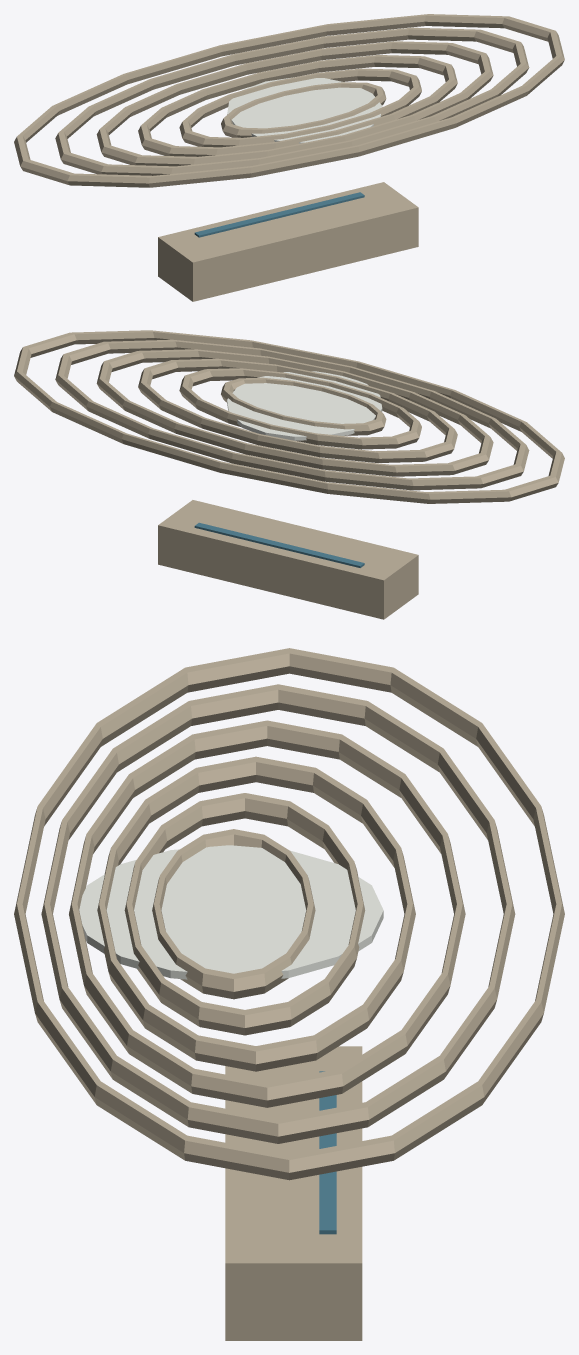
File: dionysus_theatre_hero.glb
The picture shows the model from 3 angles, top to bottom: view 1: azimuth 30°, elevation 25°; view 2: azimuth 150°, elevation 25°; view 3: azimuth 270°, elevation 25°; orthographic projection. The views are drawn at different scales.
Parts seen in each view (by area): view 1: limestone_cavea_tier.001; view 2: limestone_cavea_tier.001; view 3: limestone_cavea_tier.001.
Boxes of the visible parts, x1,y1,x2,y2 form: limestone_cavea_tier.001: (14, 14, 564, 301); limestone_cavea_tier.001: (14, 330, 564, 619); limestone_cavea_tier.001: (14, 648, 564, 1340).
Bounding box in the file's own units: 71.5 × 21.15 × 32.17.
